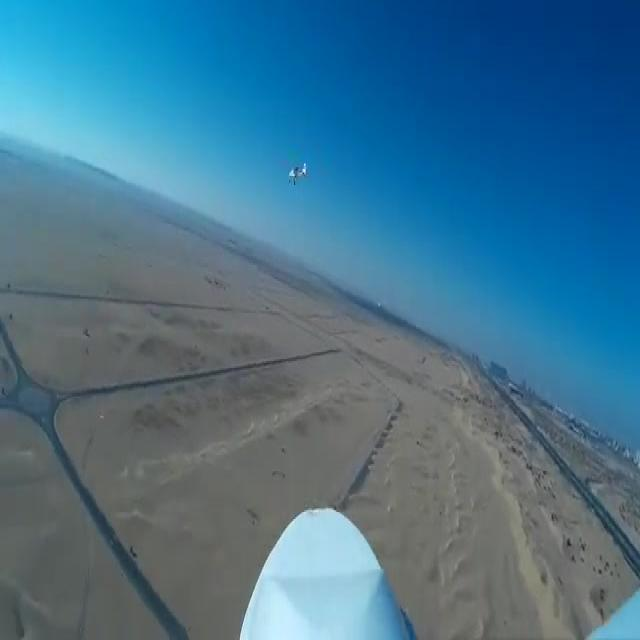iha: (288, 161, 307, 185)
